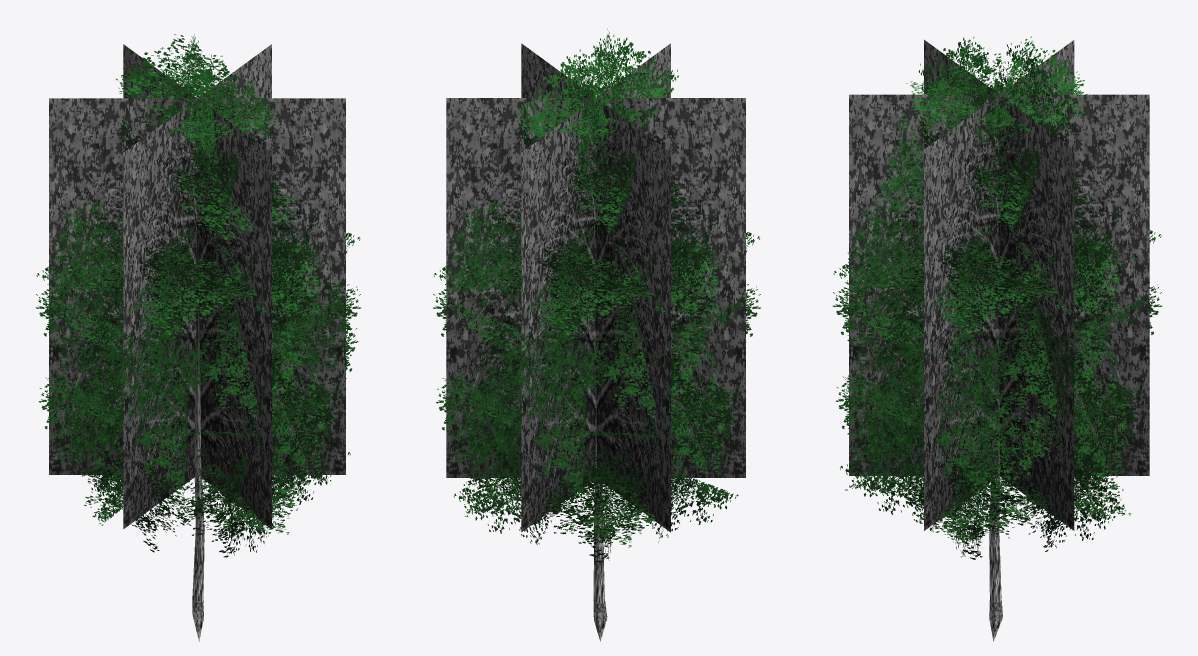
Rendered from berk_3.fbx.
3 views of the same model, side by side, from view 1: azimuth 30°, elevation 25°; view 2: azimuth 150°, elevation 25°; view 3: azimuth 270°, elevation 25° (orthographic).
Visible parts, largest first — view 1: berk_3; view 2: berk_3; view 3: berk_3.
Part boxes in pixels (box(x1,y1,x2,y2)): berk_3: box(36, 34, 360, 641); berk_3: box(433, 29, 760, 641); berk_3: box(832, 36, 1162, 641).
Size of the model in its own units: 1294 by 2288 by 1235.
